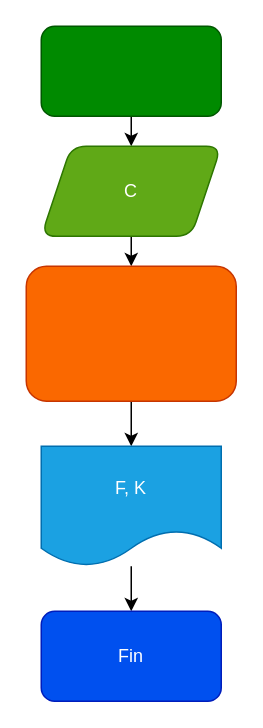
Some shapes in this 263 by 728 pixel diagram are drawn without their labels. The shapes that lost their labels are listed below. From the top down, each one's centre as x and y in pixels, then its label:
pixel 130 70: Inicio
pixel 130 333: (0 °C * 9/5) + 32 = 32 °F 0 °C + 273.15 = 273.15 K
